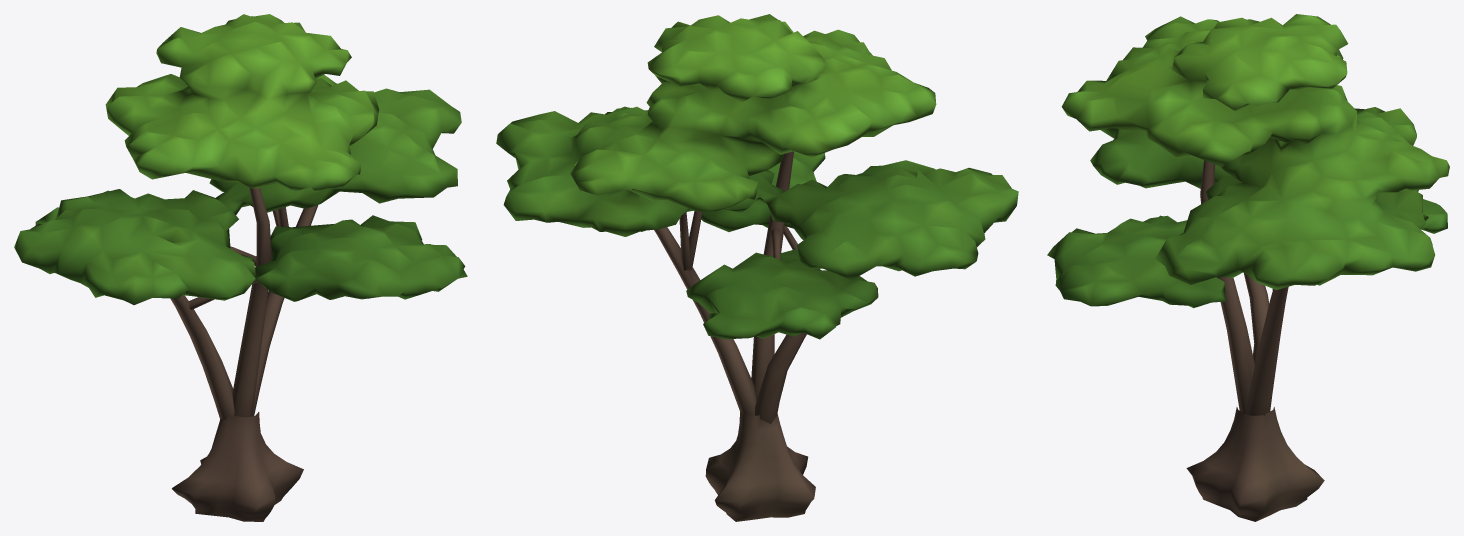
File: tree-maple.glb
The picture shows the model from 3 angles, left to right: view 1: azimuth 30°, elevation 25°; view 2: azimuth 150°, elevation 25°; view 3: azimuth 270°, elevation 25°; orthographic projection. The views are drawn at different scales.
Parts seen in each view (by area): view 1: Maple Maple leaves, Maple Bark; view 2: Maple Maple leaves, Maple Bark; view 3: Maple Maple leaves, Maple Bark.
Boxes of the visible parts, x1,y1,x2,y2 form: Maple Maple leaves: [14, 14, 467, 304]; Maple Bark: [170, 187, 318, 521]; Maple Maple leaves: [496, 14, 1018, 339]; Maple Bark: [654, 151, 815, 521]; Maple Maple leaves: [1047, 14, 1449, 308]; Maple Bark: [1186, 160, 1324, 521].
Size of the model in its own units: 6.1 by 6.05 by 4.62.
